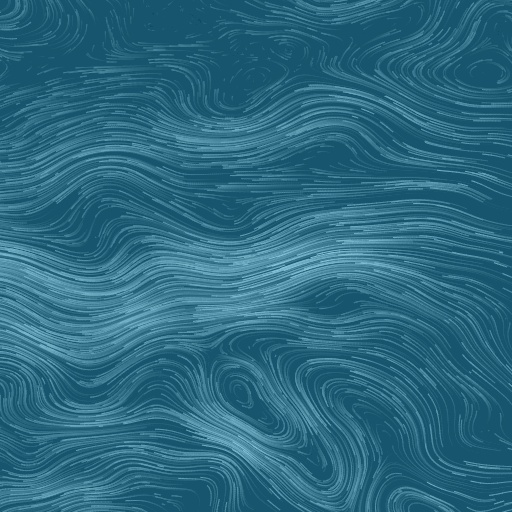eddy: (438, 48, 510, 96), (213, 367, 258, 414), (266, 36, 307, 62)
